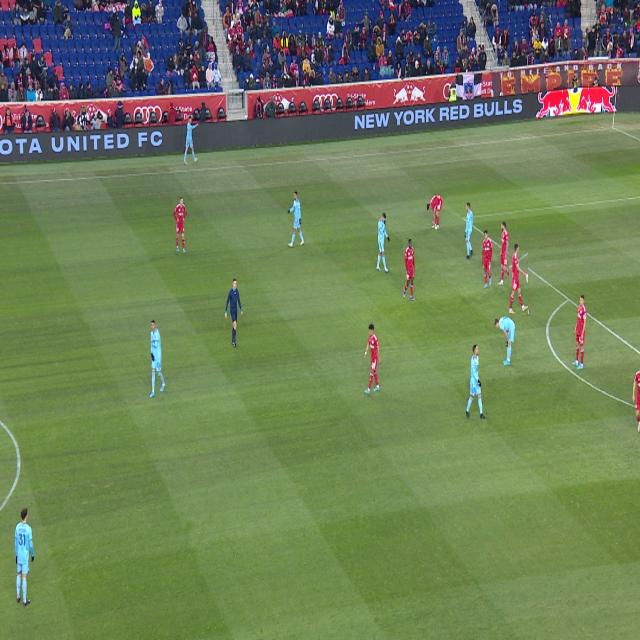player: (14, 508, 34, 606), (466, 345, 486, 419), (510, 244, 528, 314), (150, 320, 166, 398), (364, 324, 381, 393), (572, 295, 587, 370), (494, 316, 515, 366), (497, 222, 512, 285), (288, 192, 305, 247), (376, 212, 390, 272), (403, 239, 415, 301), (174, 197, 186, 254), (482, 231, 493, 288), (427, 194, 443, 230), (632, 367, 640, 438), (464, 203, 473, 259)
referee: (225, 279, 243, 347)
